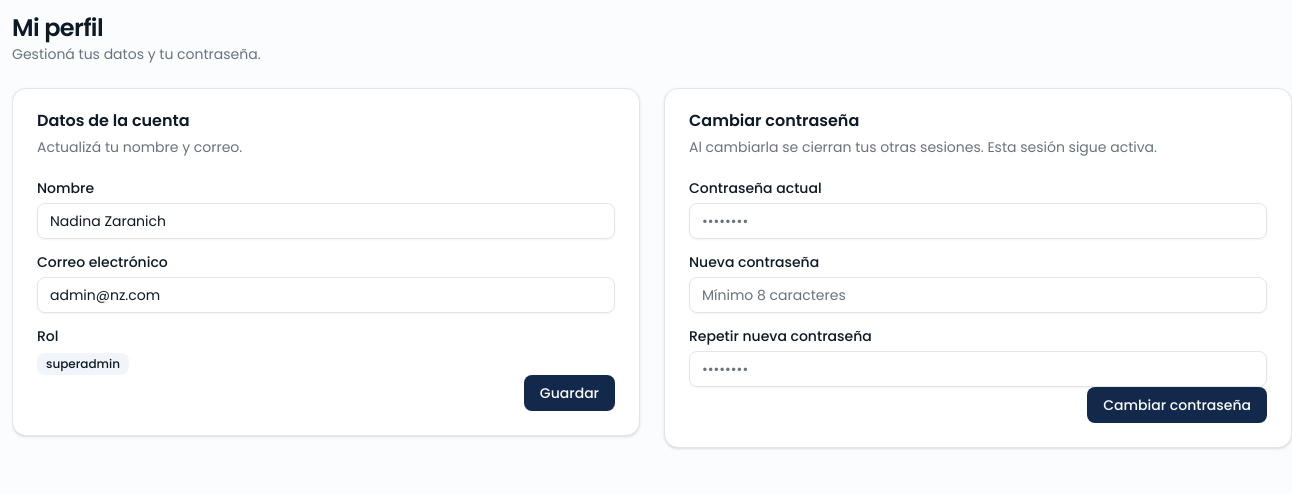
Scenario: ProfilePage › valida en el cliente que las contraseñas coincidan
Type "actual123" into the password field labelled "Contraseña actual".
click(978, 221); type("actual123")  # box [689,203,1267,239]
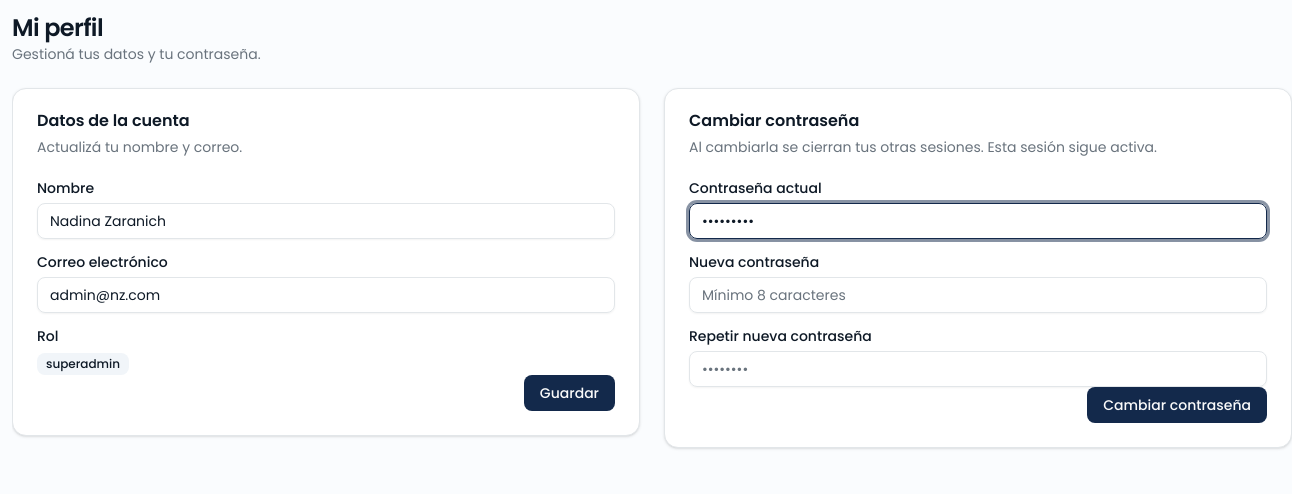
Type "nueva-clave-123" into the password field labelled "Nueva contraseña".
click(978, 295); type("nueva-clave-123")  # box [689,277,1267,313]
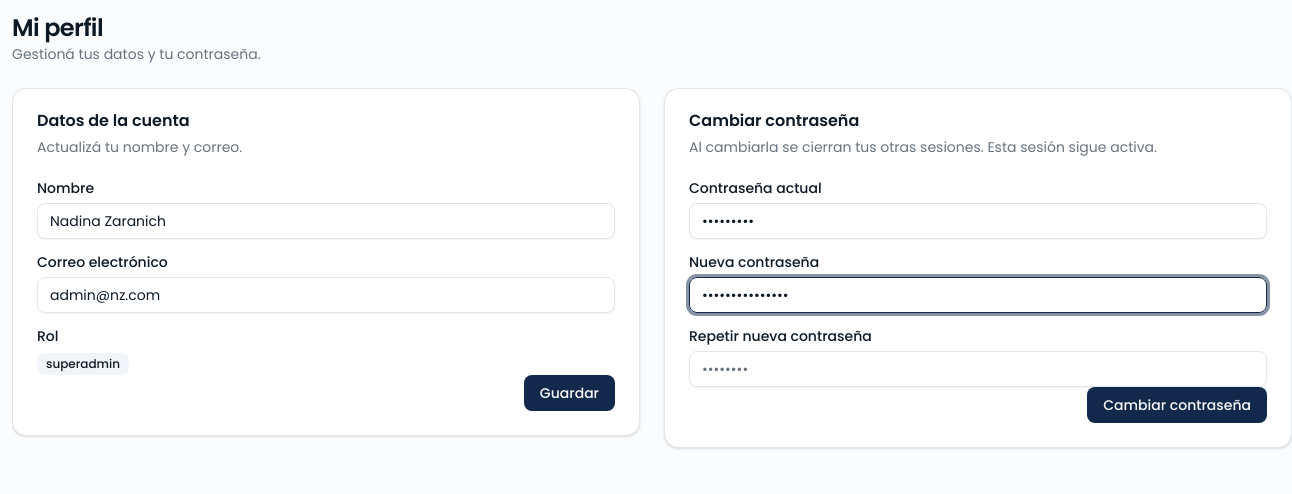
Type "otra-distinta-123" into the password field labelled "Repetir nueva contraseña".
click(978, 369); type("otra-distinta-123")  # box [689,351,1267,387]
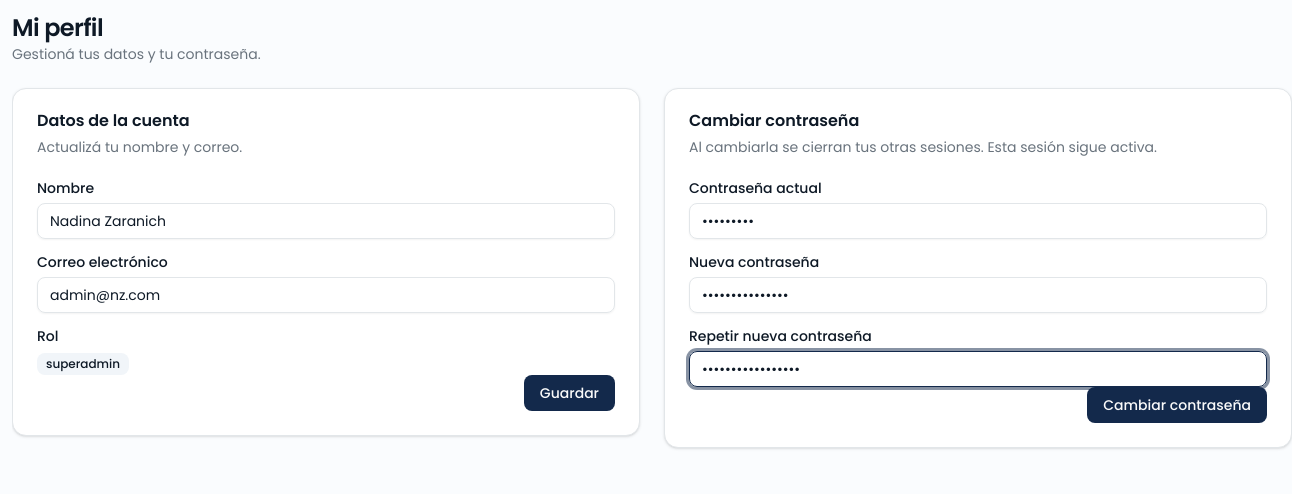
Click the button "Cambiar contraseña".
click(1177, 405)  # box [1087,387,1267,423]
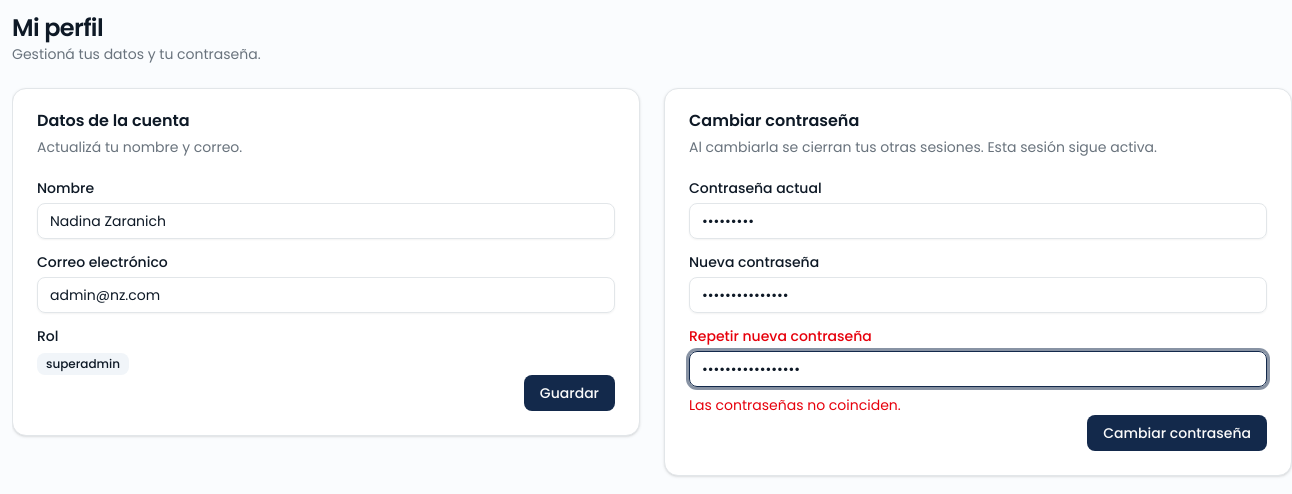
Now the text "Las contraseñas no coinciden." is shown, box [689,395,901,415]
